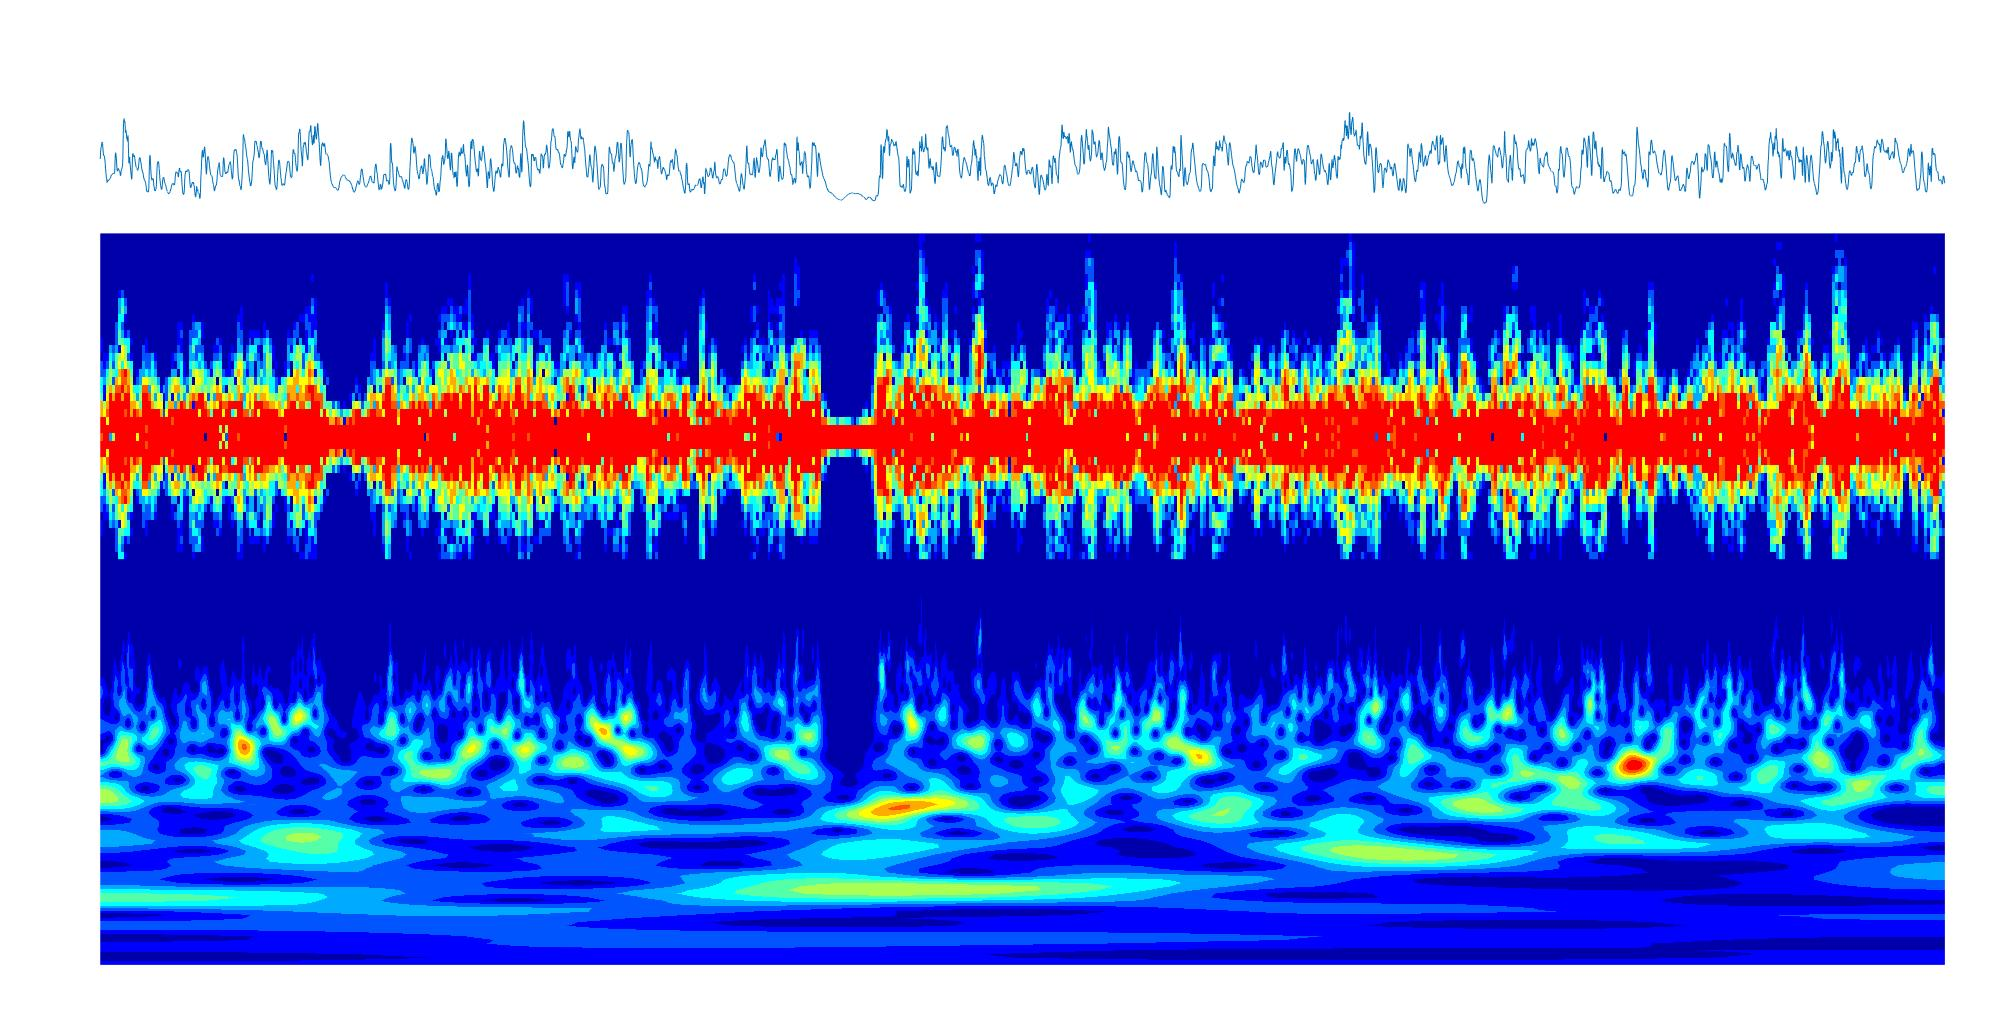TURBULENT: (874, 232, 1945, 964), (381, 233, 824, 964), (100, 233, 320, 964)
